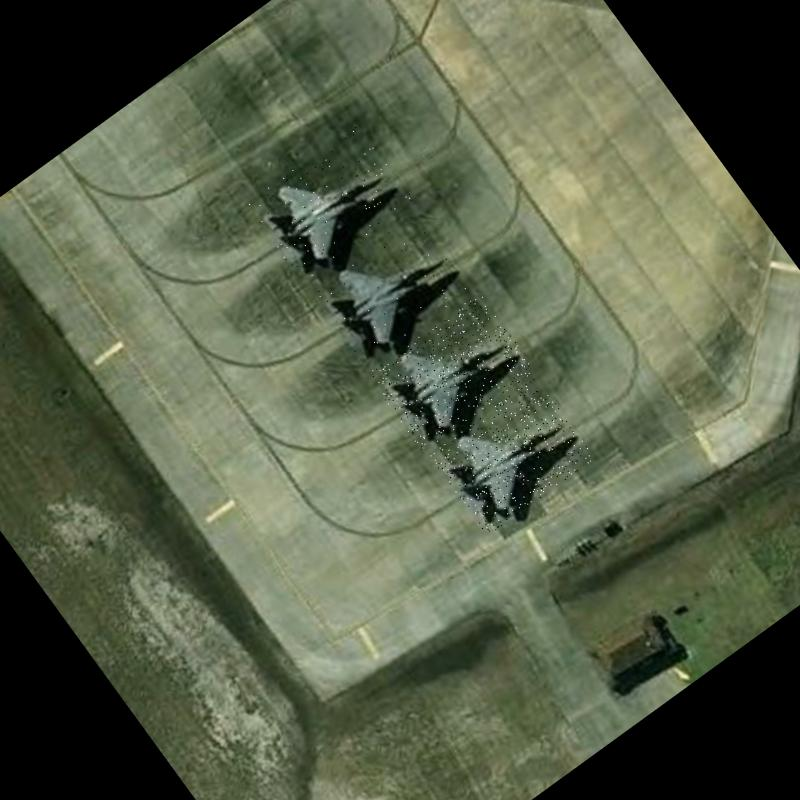A13: (245, 122, 416, 284), (366, 292, 536, 451), (306, 210, 474, 370), (428, 376, 595, 536)
